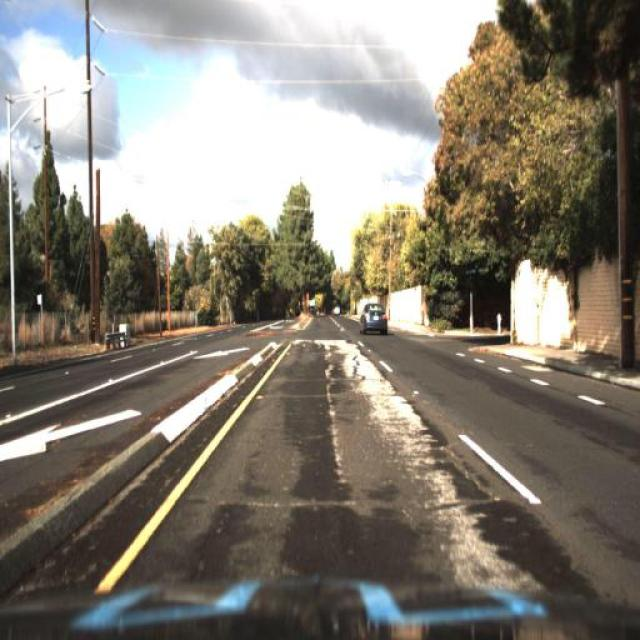car: (359, 302, 392, 337)
